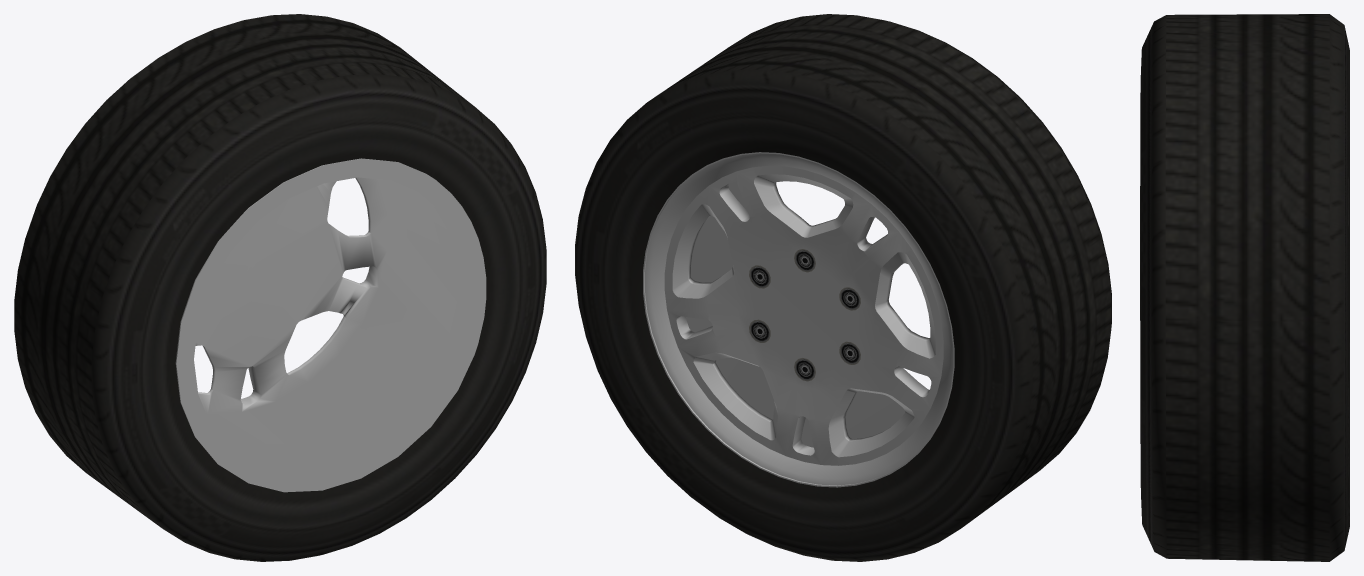
The picture shows the model from 3 angles, left to right: view 1: azimuth 30°, elevation 25°; view 2: azimuth 150°, elevation 25°; view 3: azimuth 270°, elevation 25°; orthographic projection. The views are drawn at different scales.
Visible parts, largest first — view 1: U805_4A_901C_L_U805_4A_901C_L_3_DM, U805_4A_901C_L_U805_4A_901C_L_2_DaS; view 2: U805_4A_901C_L_U805_4A_901C_L_3_DM, U805_4A_901C_L_U805_4A_901C_L_2_DaS, U805_4A_901C_L_1_D_U805_4A_901C_L; view 3: U805_4A_901C_L_U805_4A_901C_L_3_DM.
Part boxes in pixels (left/top/right/bottom): U805_4A_901C_L_U805_4A_901C_L_3_DM: left=14, top=14, right=546, bottom=561; U805_4A_901C_L_U805_4A_901C_L_2_DaS: left=175, top=158, right=486, bottom=492; U805_4A_901C_L_U805_4A_901C_L_3_DM: left=575, top=14, right=1111, bottom=561; U805_4A_901C_L_U805_4A_901C_L_2_DaS: left=643, top=152, right=954, bottom=487; U805_4A_901C_L_1_D_U805_4A_901C_L: left=749, top=249, right=860, bottom=381; U805_4A_901C_L_U805_4A_901C_L_3_DM: left=1140, top=14, right=1349, bottom=561.
Bounding box in the file's own units: 70.79 × 70.84 × 27.06.
